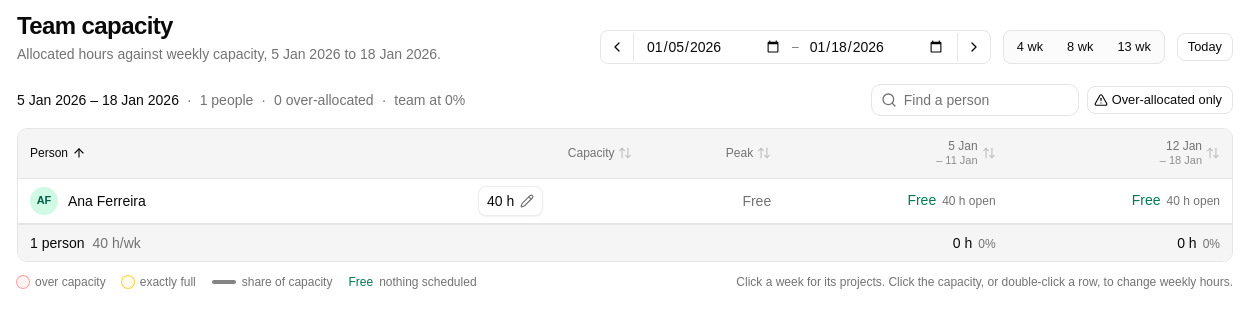
Test: App › loads the range chosen in the date fields or with a length preset
Expected: the text "5 Jan" is shown, [948,139,978,154]
Note: A date input's value is set in one go, as a picker does.
Step 1. Type "2026-02-01" into the date field named "To" → [877, 47], box [805,33,949,61]
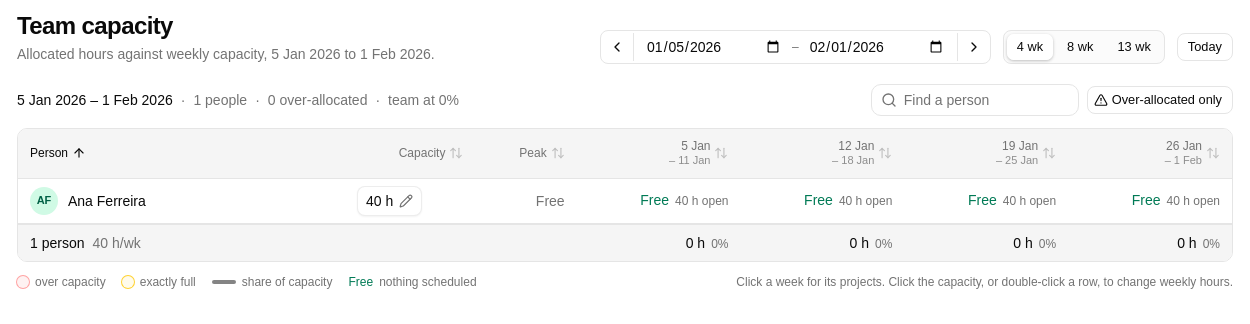
Expected: the text "26 Jan" is shown, [1166,139,1202,154]
Step 2. Click the button "8 wk" → [1080, 47], box [1056,33,1104,61]
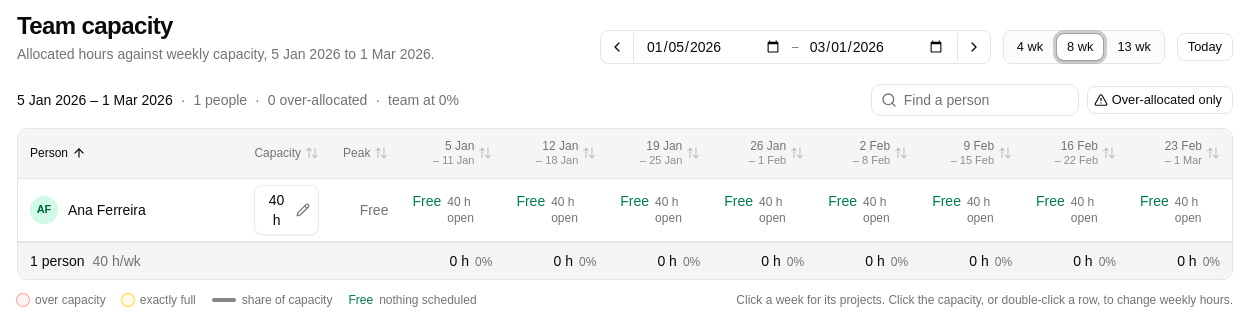
Expected: the text "23 Feb" is shown, [1165,139,1202,154]
